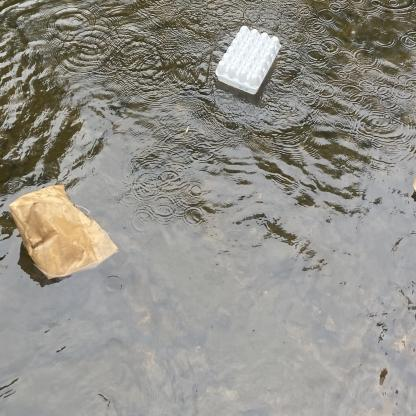trash: (6, 178, 122, 286), (209, 20, 287, 99)
